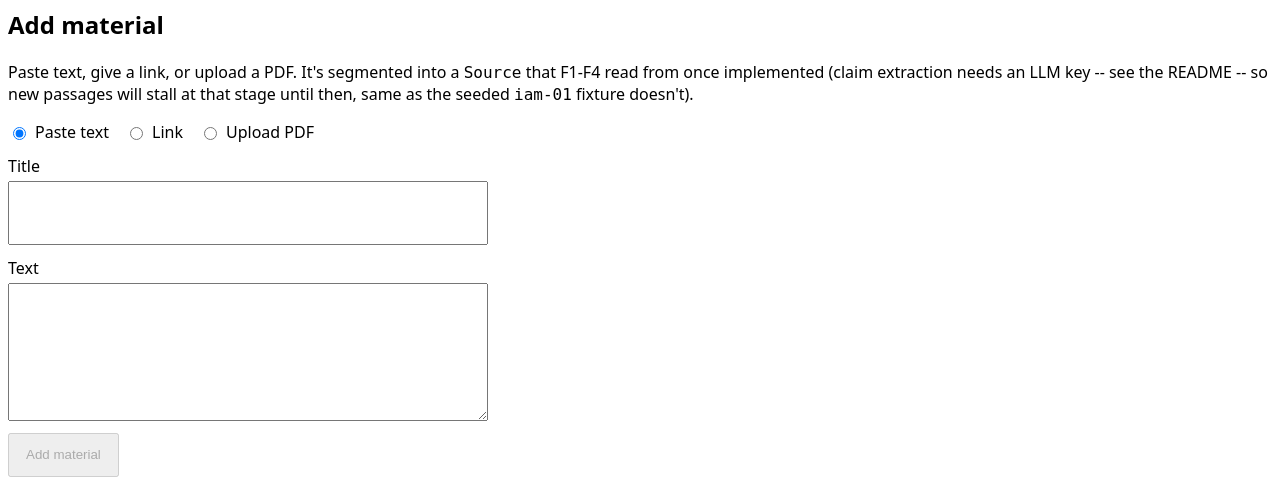
it: AddMaterial › switches to the Link field when Link mode is chosen
Click the radio button labelled "Link": (136, 133) [130,127,143,140]
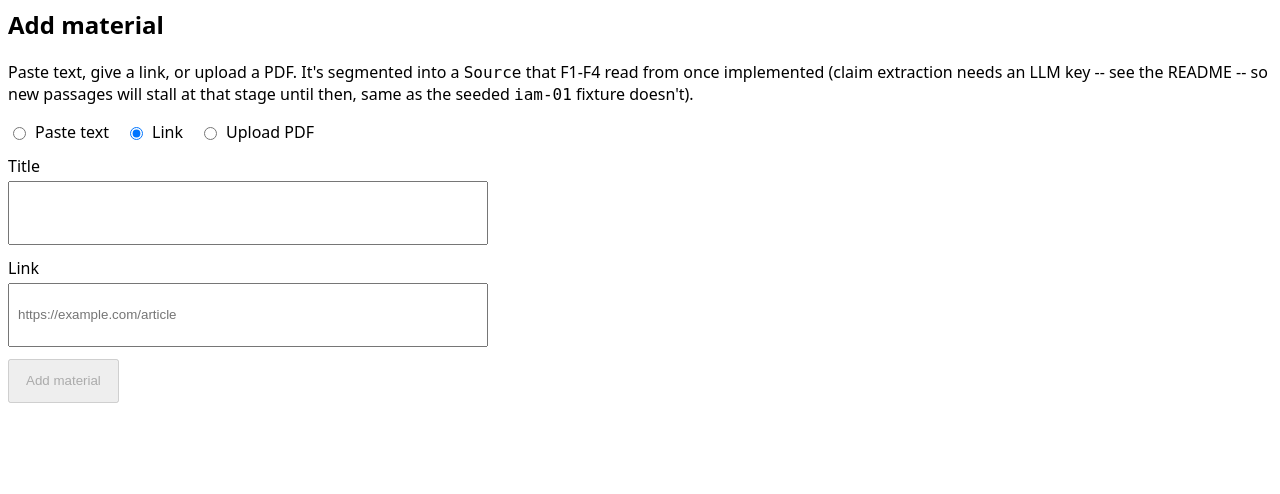
Expected: the field with placeholder "https://example.com/article" is shown, [8,283,488,347]
